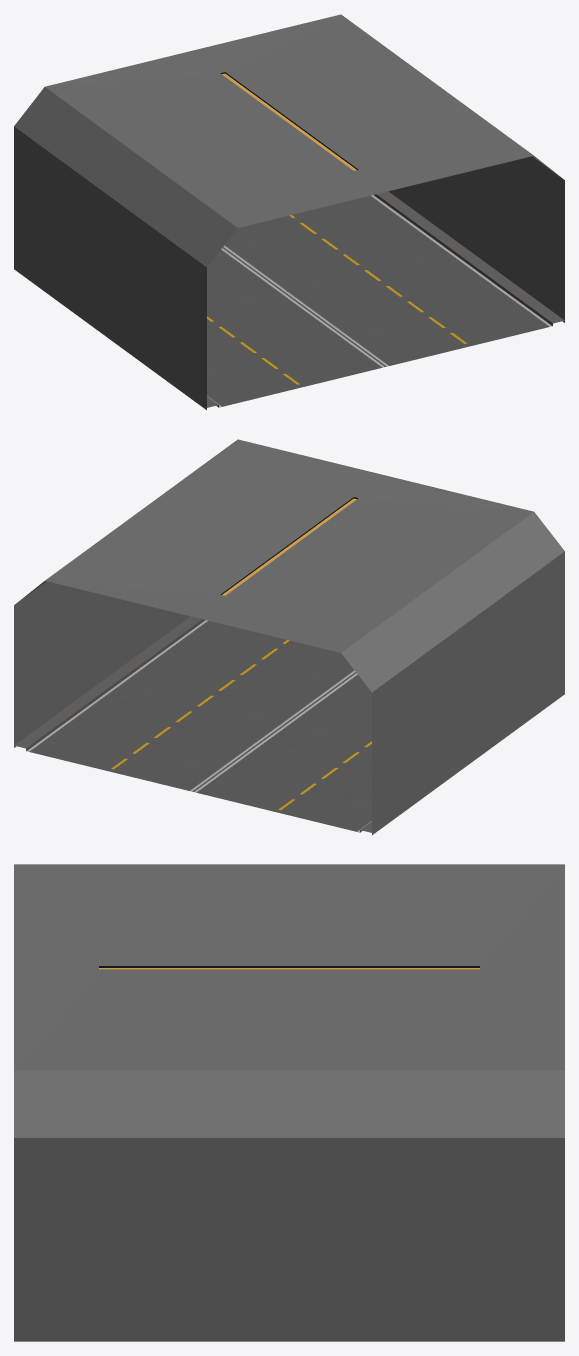
File: SM_Floor_Road_21.fbx
3 renders of one model, top to bottom at view 1: azimuth 30°, elevation 25°; view 2: azimuth 150°, elevation 25°; view 3: azimuth 270°, elevation 25°, orthographic. The views are drawn at different scales.
Visible parts, largest first — view 1: SM_Floor_Road_21; view 2: SM_Floor_Road_21; view 3: SM_Floor_Road_21.
Boxes of the visible parts, x1,y1,x2,y2 form: SM_Floor_Road_21: (14,14,564,409); SM_Floor_Road_21: (14,439,564,834); SM_Floor_Road_21: (14,864,564,1341).
Size of the model in its own units: 10.7 by 5 by 10.
